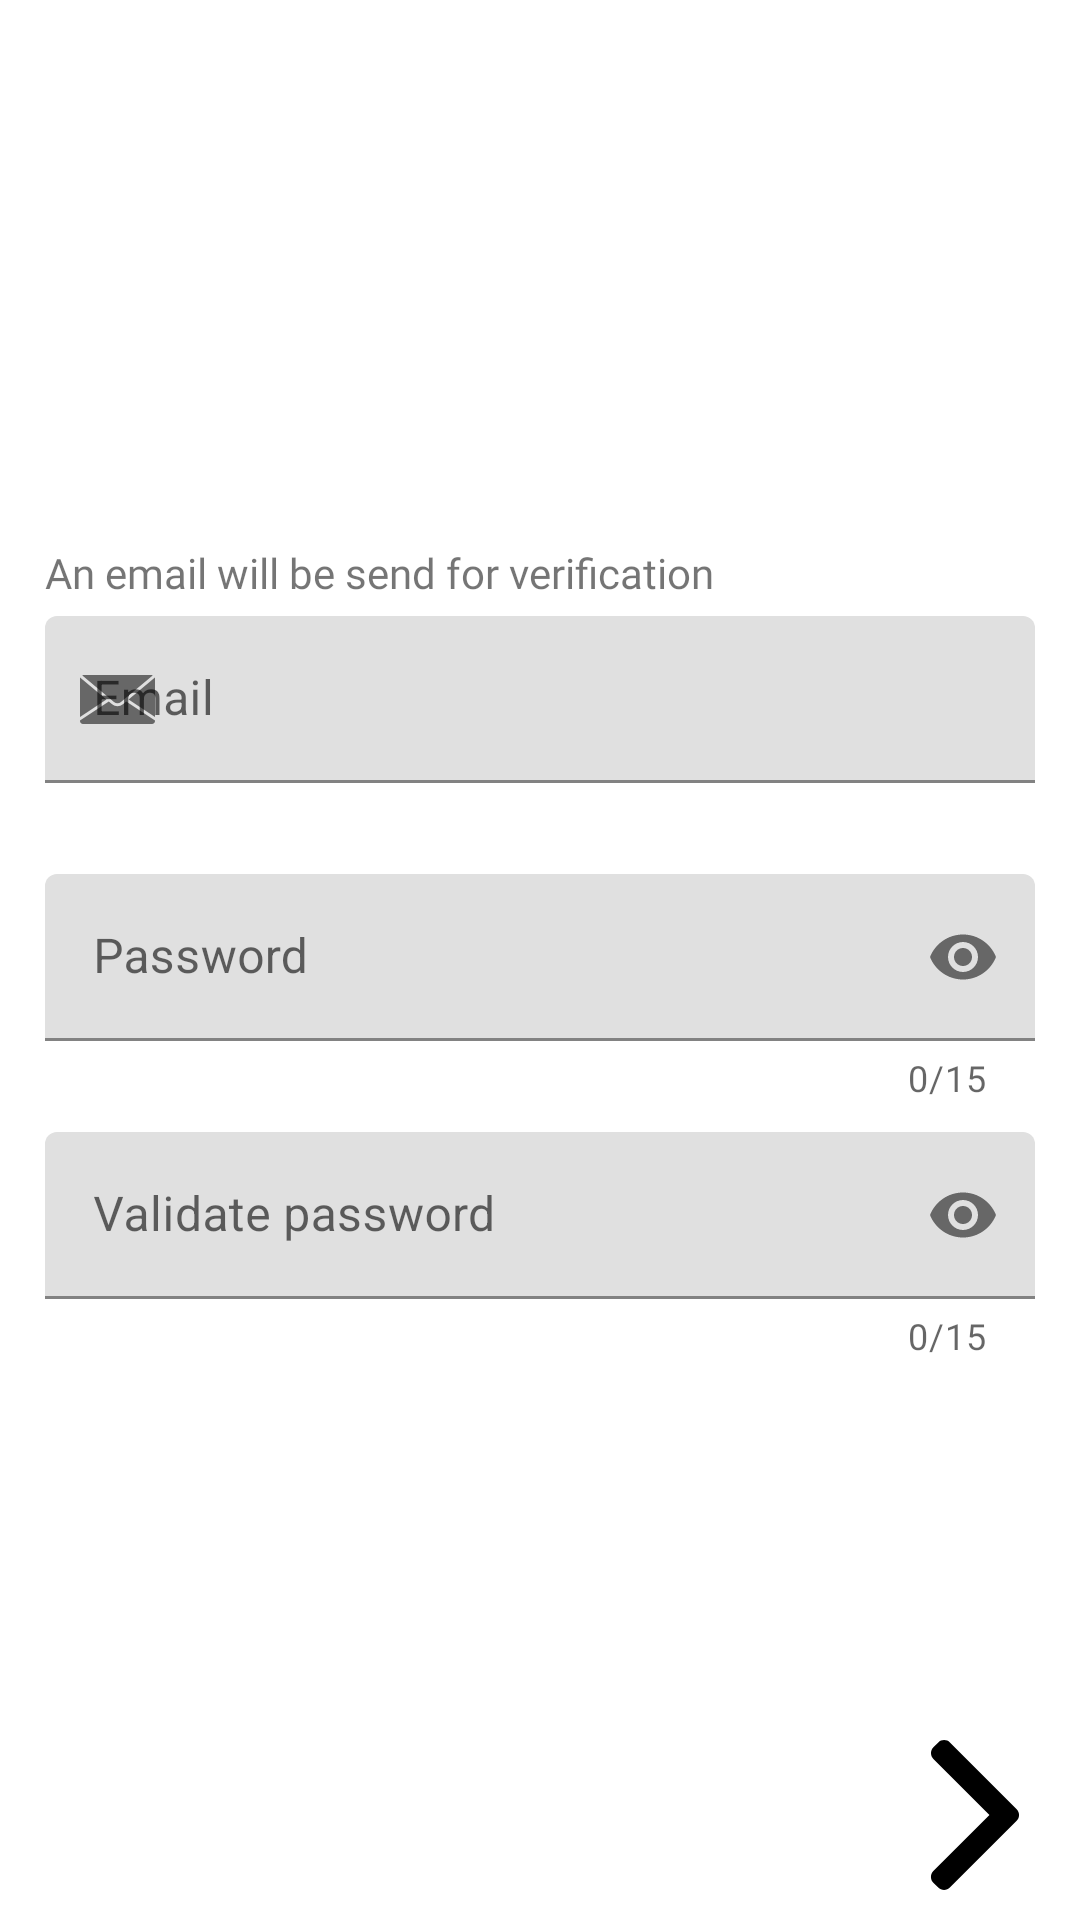

Where to tap for icons on this 1080x1920 app screen, as (x,y):
right arrow: (975,1815)
